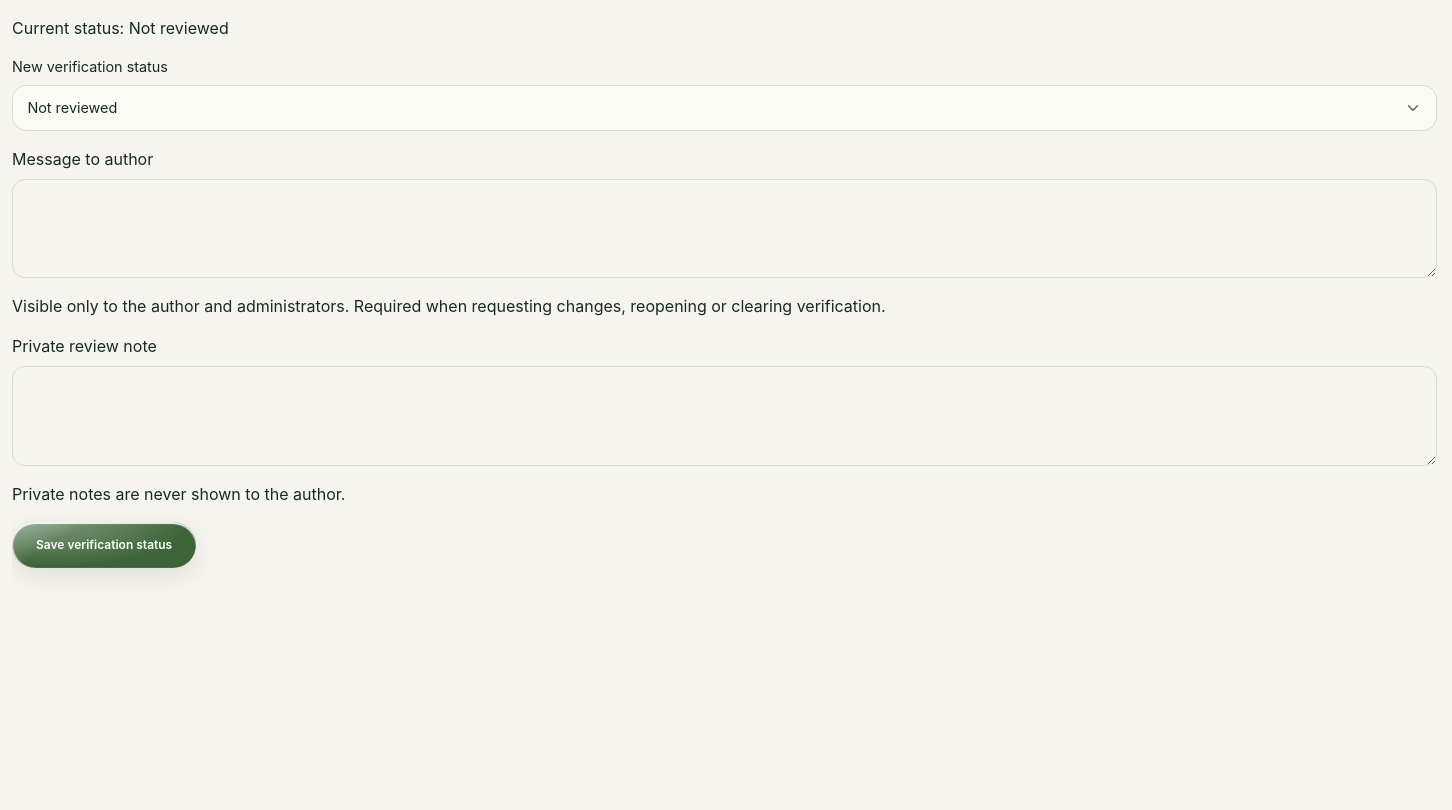
disables unchanged decisions and requires a message for reopening
This screenshot has width=1452, height=810.
Expected: the button "Save verification status" is disabled, left=12, top=522, right=196, bottom=568
Click the dropdown named "New verification status" at (72, 107), box left=12, top=85, right=1437, bottom=131
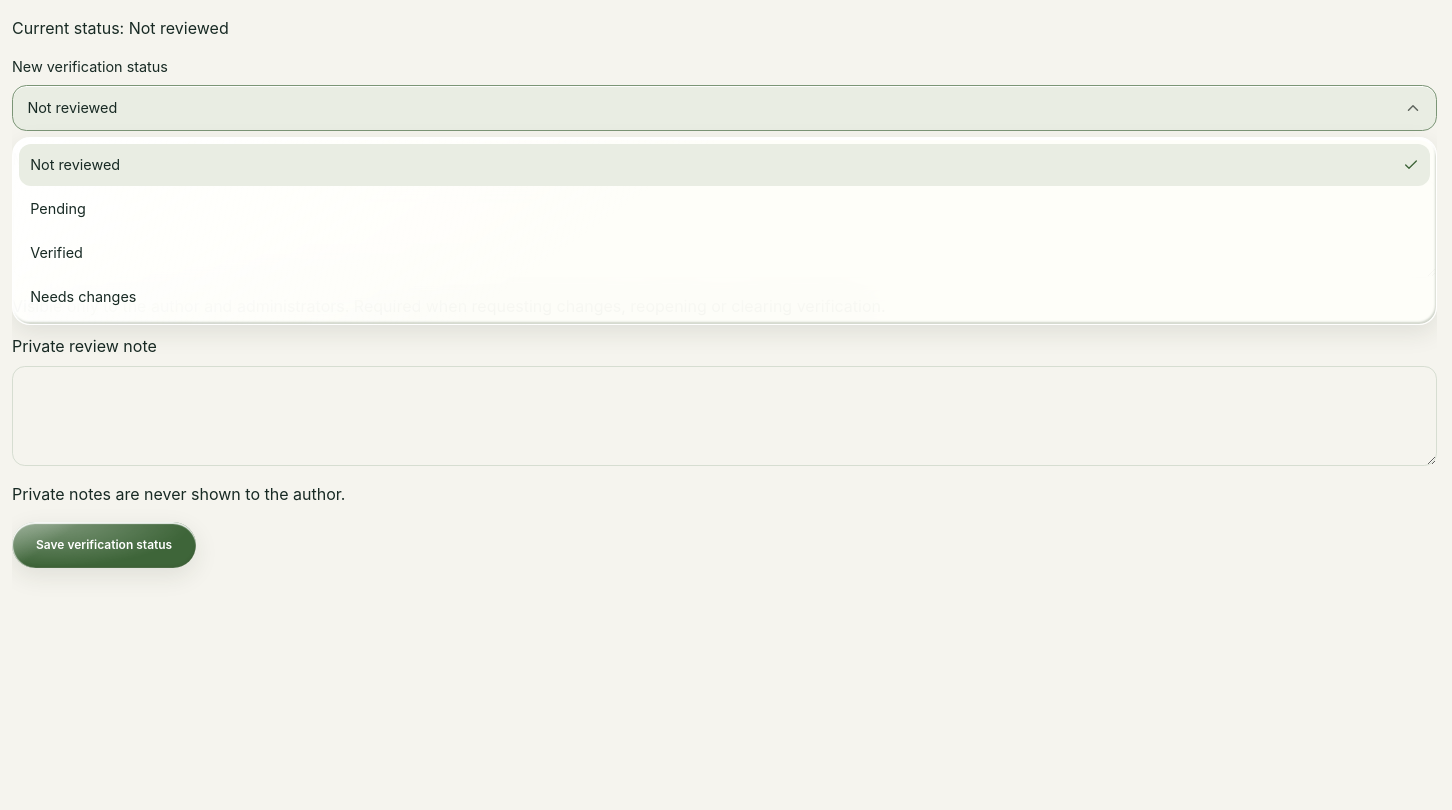
Click the option "Pending" at (58, 208), box left=19, top=188, right=1430, bottom=230
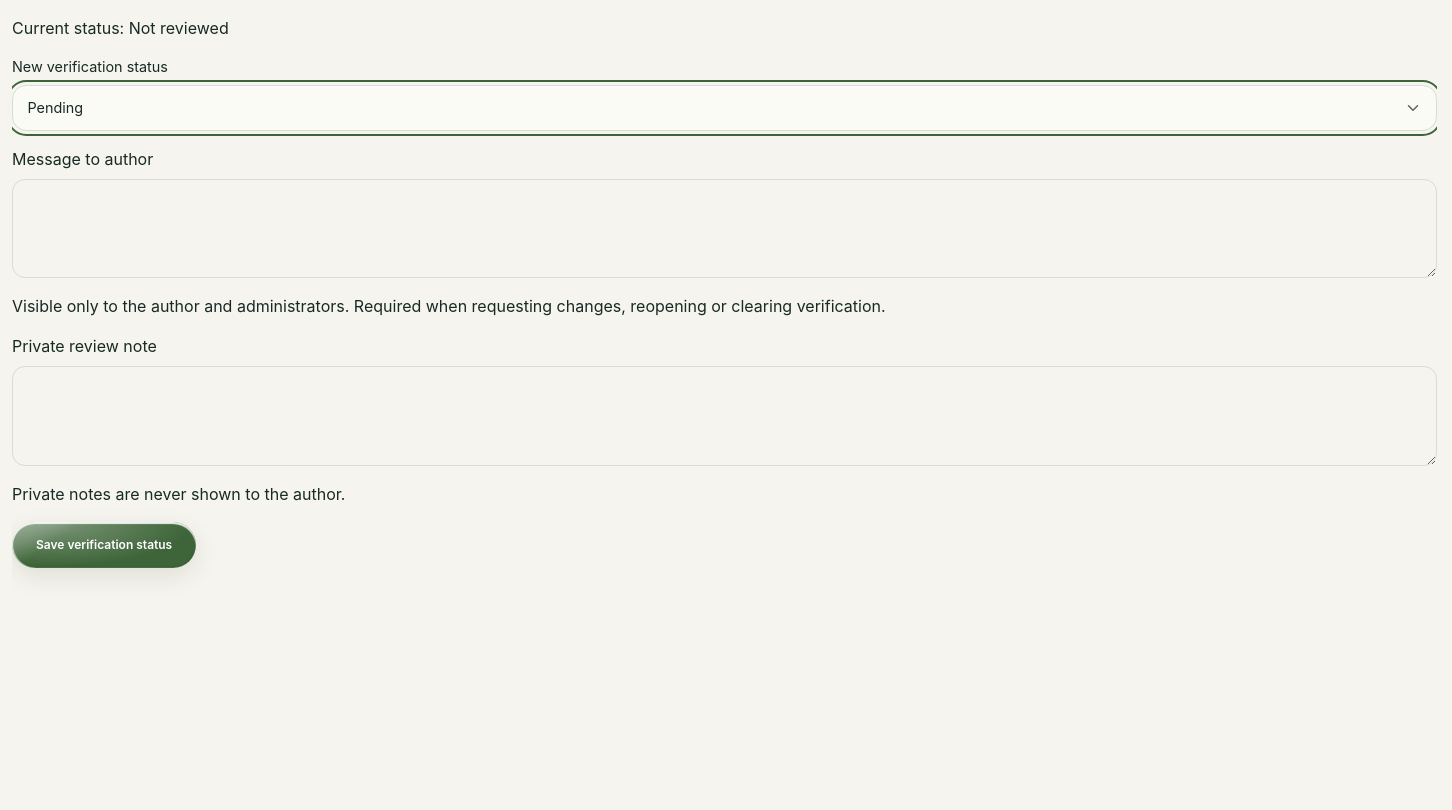
Click the button "Save verification status" at (104, 545), box left=12, top=522, right=196, bottom=568
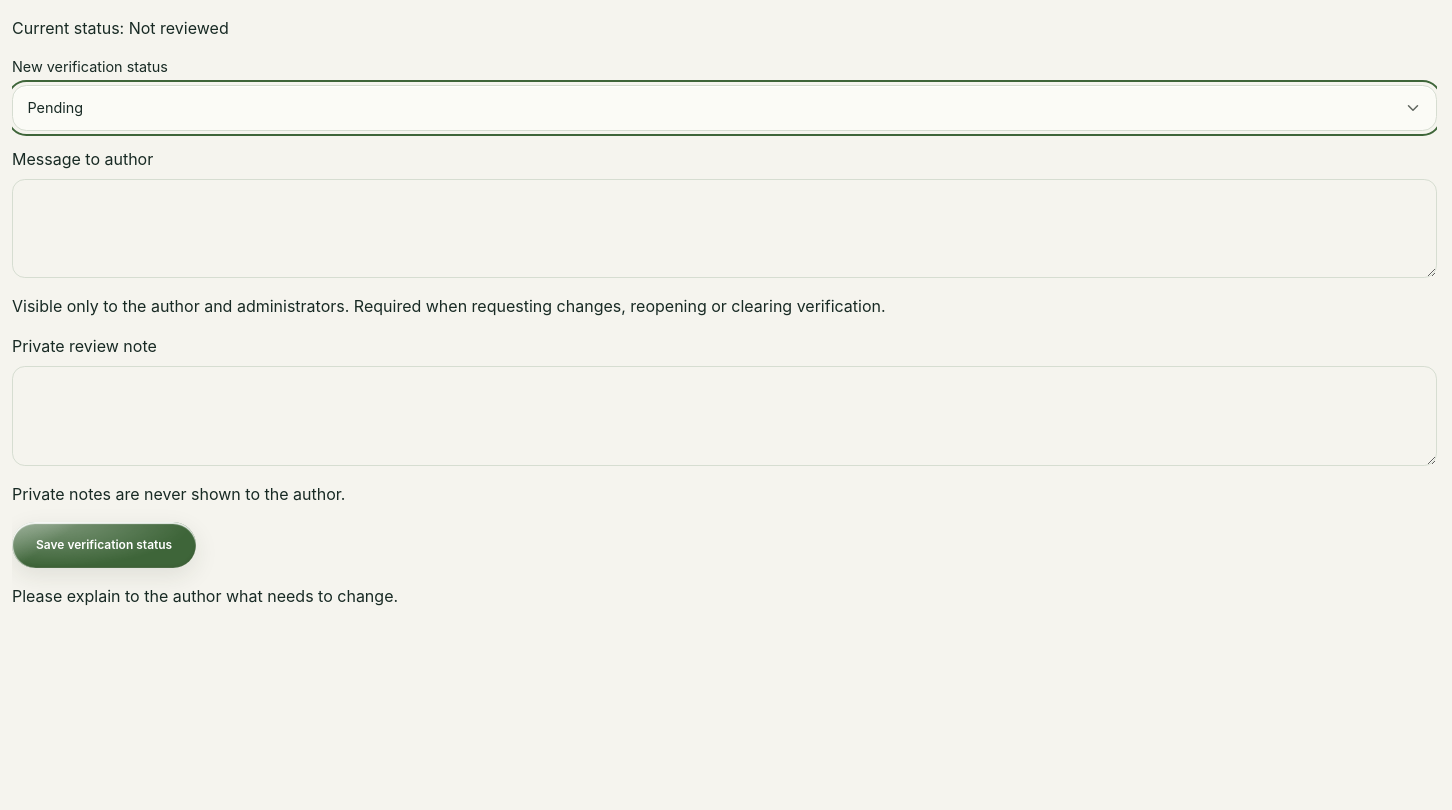
Now the message shows "explain to the author", box left=12, top=586, right=398, bottom=606
